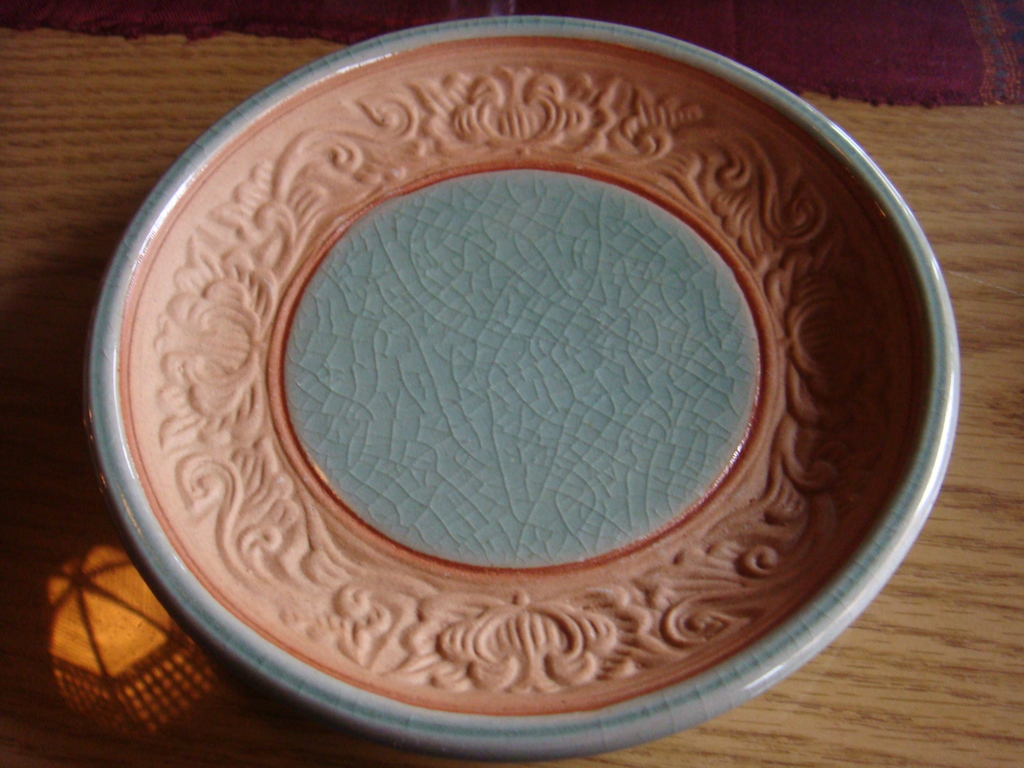plate: (100, 81, 953, 723)
